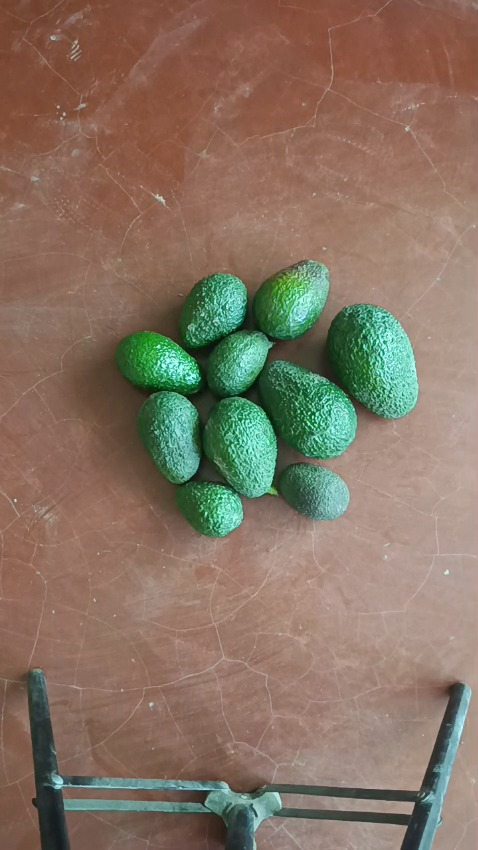Primera: (325, 304, 419, 417), (258, 360, 359, 459), (201, 396, 278, 496)
Segunda: (135, 390, 203, 485), (254, 260, 331, 341), (114, 331, 203, 396), (177, 273, 248, 350)
Tercera: (204, 330, 274, 398), (276, 462, 350, 519), (174, 480, 243, 536)
